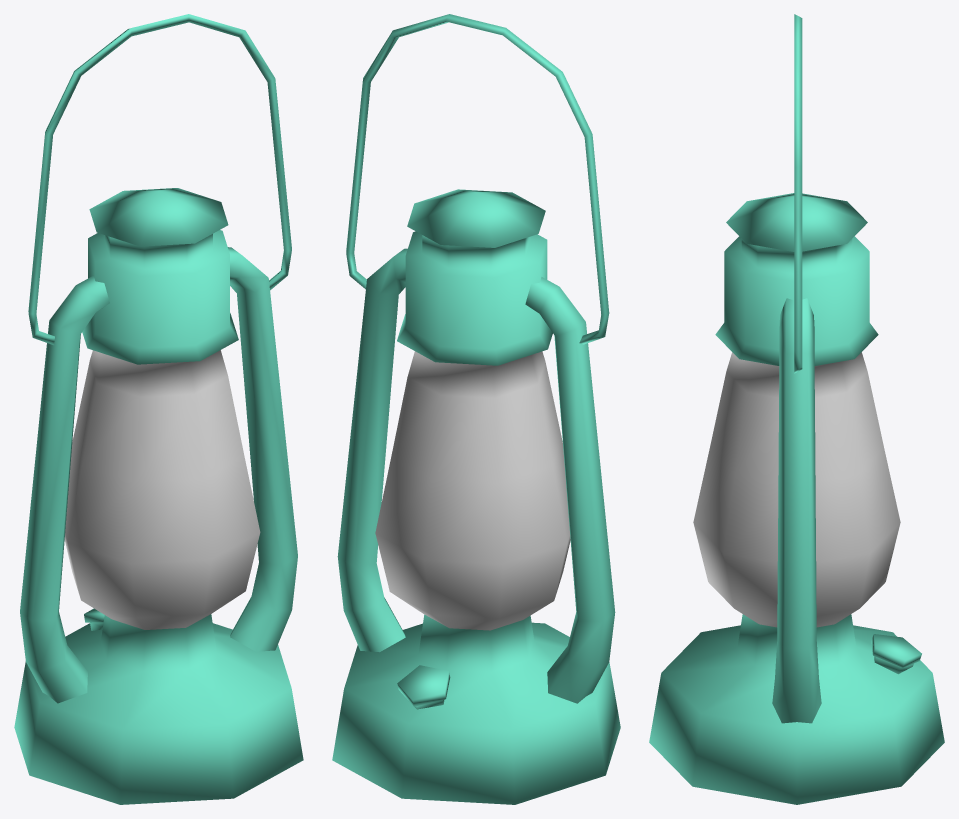
The model's file is M_OilLamp.fbx.
3 renders of one model, left to right at view 1: azimuth 30°, elevation 25°; view 2: azimuth 150°, elevation 25°; view 3: azimuth 270°, elevation 25°, orthographic.
Parts seen in each view (by area): view 1: Farol, Farol_M; view 2: Farol, Farol_M; view 3: Farol, Farol_M.
Part boxes in pixels (<box>): Farol: <box>14,188,303,804</box>; Farol_M: <box>28,14,291,345</box>; Farol: <box>332,189,620,804</box>; Farol_M: <box>346,14,609,344</box>; Farol: <box>649,193,944,804</box>; Farol_M: <box>794,14,802,373</box>.
Bounding box in the file's own units: 21.5 × 55.96 × 20.98.
